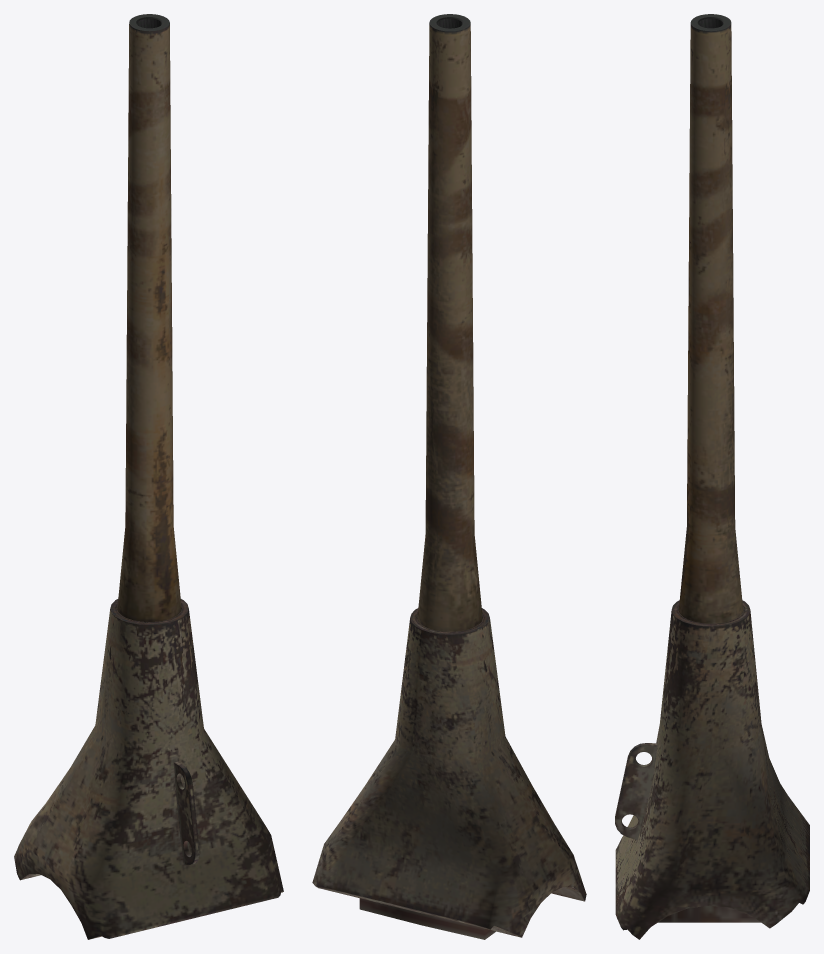
Rendered from Gun_05.glb.
The picture shows the model from 3 angles, left to right: view 1: azimuth 30°, elevation 25°; view 2: azimuth 150°, elevation 25°; view 3: azimuth 270°, elevation 25°; orthographic projection.
Visible parts, largest first — view 1: set_0_group_0; view 2: set_0_group_0; view 3: set_0_group_0.
Part boxes in pixels (x1,y1,x2,y2): set_0_group_0: [14, 14, 283, 939]; set_0_group_0: [312, 14, 586, 939]; set_0_group_0: [615, 14, 809, 939].
Bounding box in the file's own units: 1.18 × 4.87 × 0.9887.
1 material, 1 textured.
